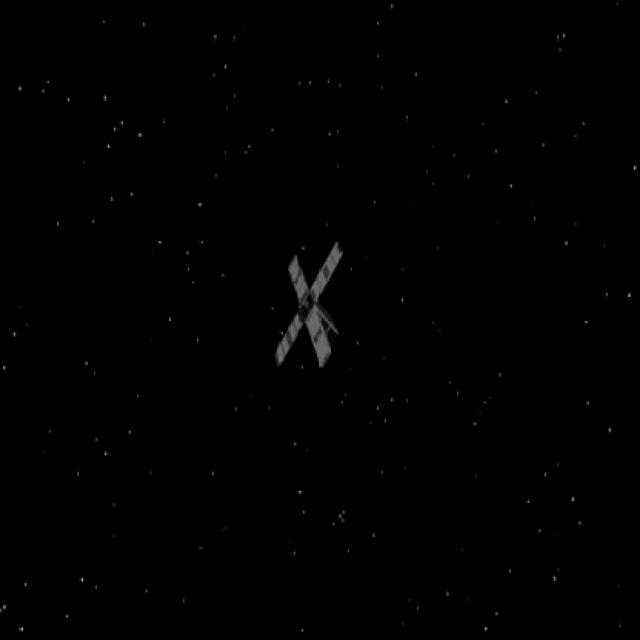satellite: (267, 240, 367, 373)
